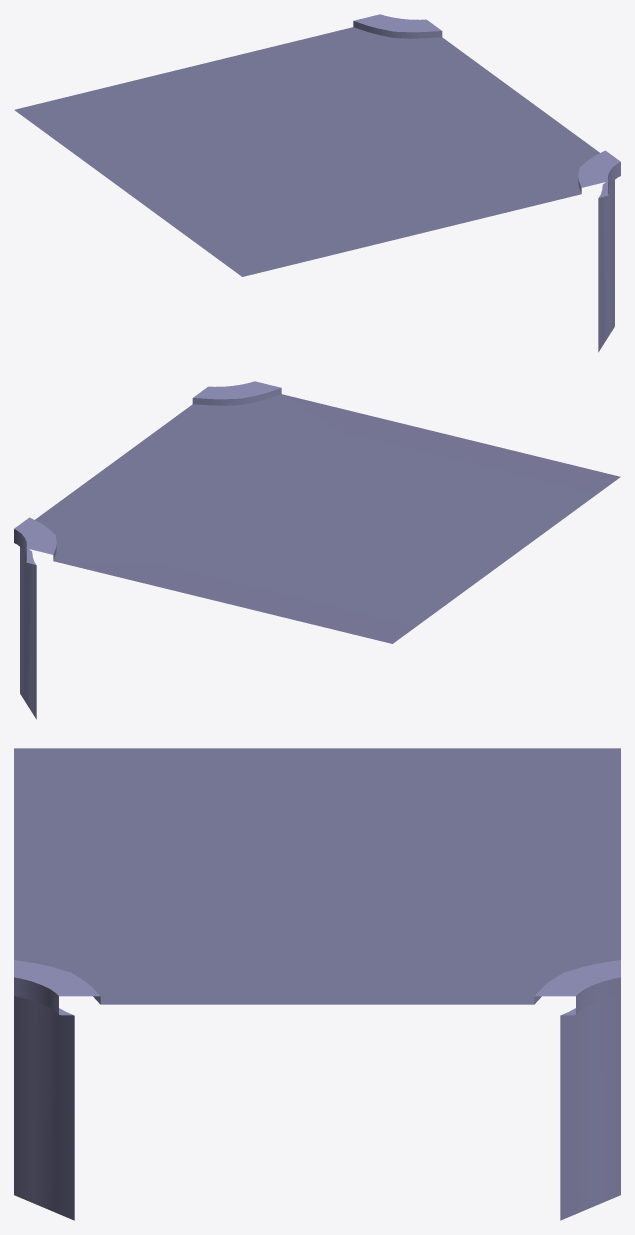
Rendered from Wall_Inside_Corner_x2.fbx.
The picture shows the model from 3 angles, top to bottom: view 1: azimuth 30°, elevation 25°; view 2: azimuth 150°, elevation 25°; view 3: azimuth 270°, elevation 25°; orthographic projection. The views are drawn at different scales.
Visible parts, largest first — view 1: Wall_Inside_Corner_x2; view 2: Wall_Inside_Corner_x2; view 3: Wall_Inside_Corner_x2.
Part boxes in pixels (left/top/right/bottom): Wall_Inside_Corner_x2: left=14, top=14, right=620, bottom=352; Wall_Inside_Corner_x2: left=14, top=381, right=620, bottom=719; Wall_Inside_Corner_x2: left=14, top=748, right=620, bottom=1220.
Bounding box in the file's own units: 250 × 102 × 250.
